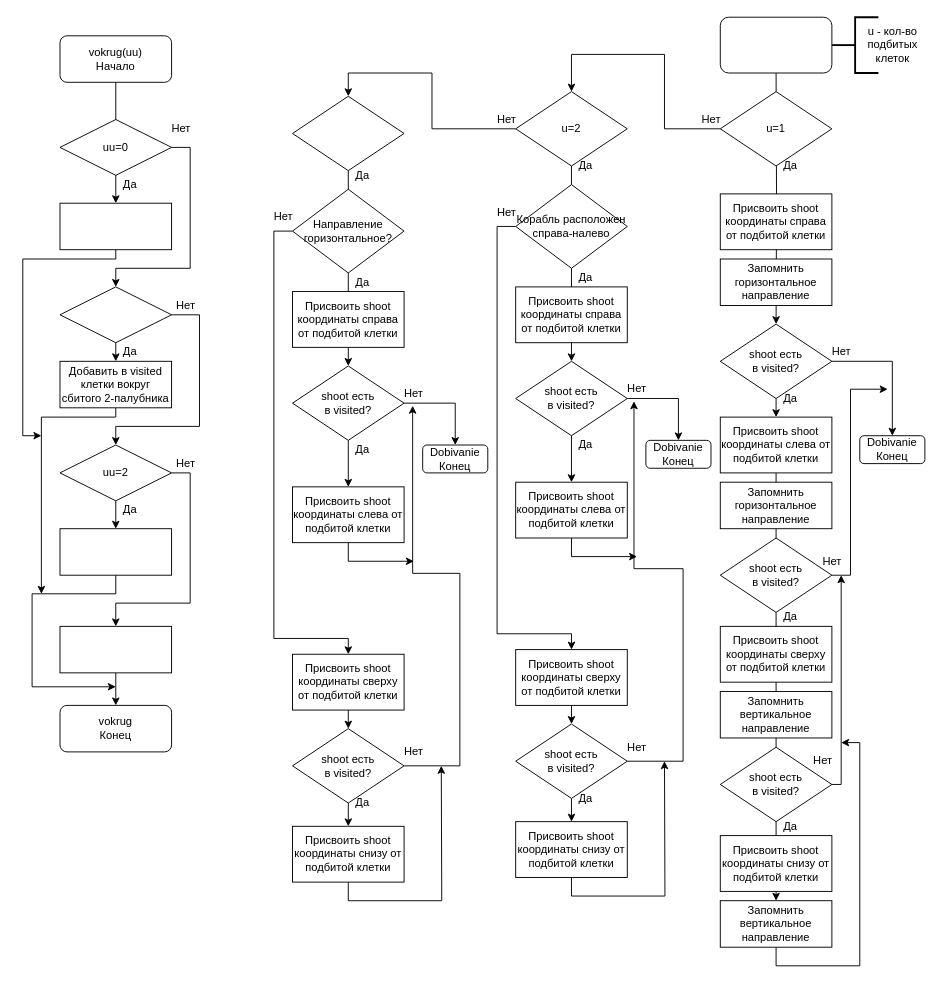
This 941x990 diagram has some shape labels left out. The centre of each missing label's shape, as x and y in pixels:
Dobivanie Начало: pixel 775 44
u=3: pixel 348 133
uu=1: pixel 115 314
Добавить в visited клетки вокруг сбитого 1-палубника: pixel 115 226
Добавить в visited клетки вокруг сбитого 3-палубника: pixel 115 551
Добавить в visited клетки вокруг сбитого 4-палубника: pixel 115 649
